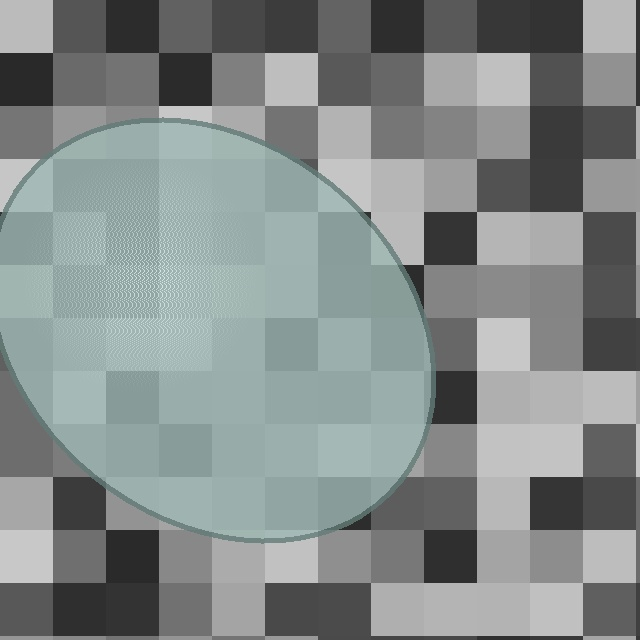lens: (0, 119, 433, 541)
